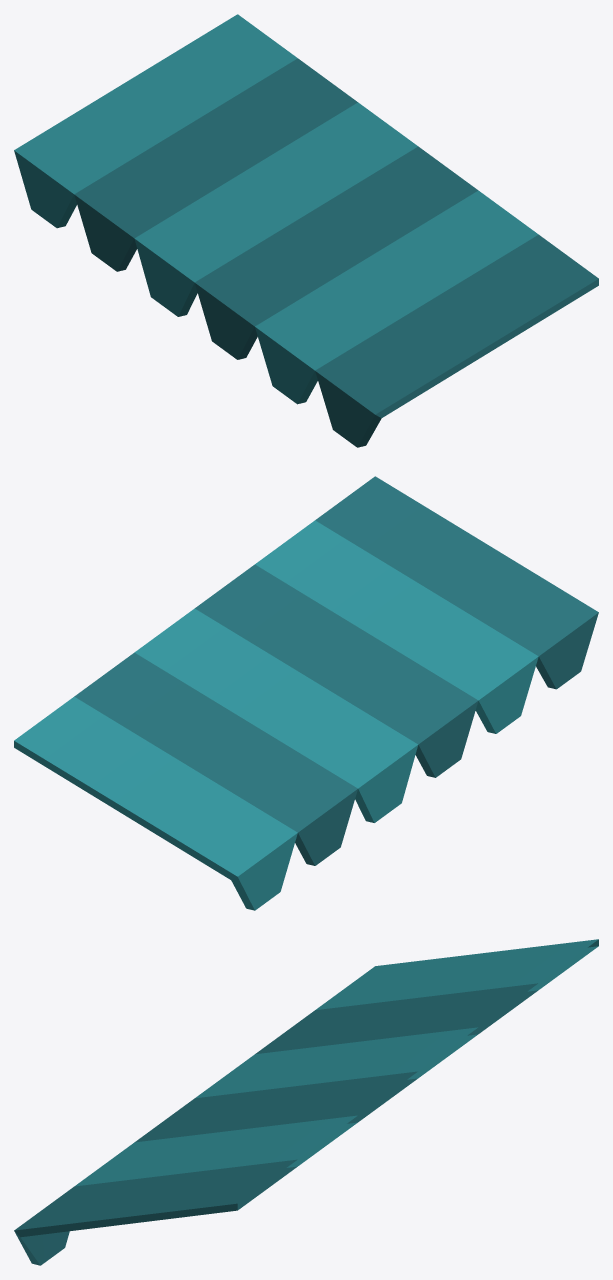
The model's file is Awning_3_C.fbx.
3 views of the same model, one above another, from view 1: azimuth 30°, elevation 25°; view 2: azimuth 150°, elevation 25°; view 3: azimuth 330°, elevation 25° (orthographic).
Visible parts, largest first — view 1: Awning_3_C; view 2: Awning_3_C; view 3: Awning_3_C.
Boxes of the visible parts, bbox=[...] form: Awning_3_C: bbox=[14, 14, 598, 447]; Awning_3_C: bbox=[14, 476, 598, 910]; Awning_3_C: bbox=[14, 939, 598, 1265].
Size of the model in its own units: 99.94 by 54.72 by 280.
